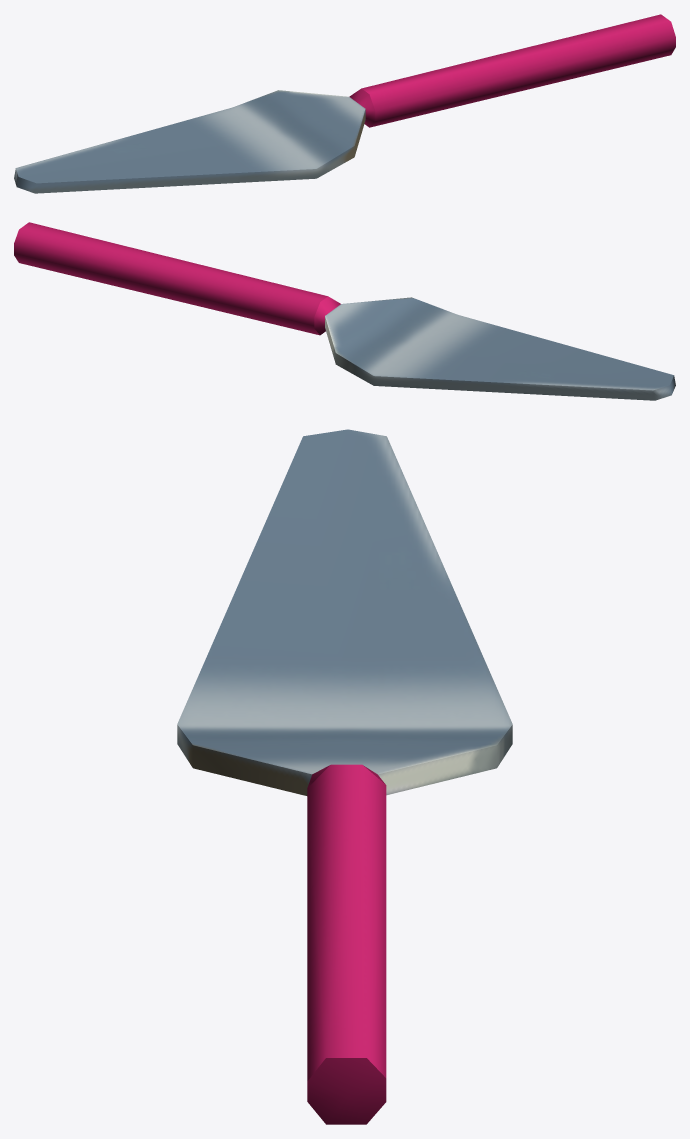
File: Cake_Server_04.fbx
3 renders of one model, top to bottom at view 1: azimuth 30°, elevation 25°; view 2: azimuth 150°, elevation 25°; view 3: azimuth 270°, elevation 25°, orthographic. The views are drawn at different scales.
Visible parts, largest first — view 1: Cake_Server_04; view 2: Cake_Server_04; view 3: Cake_Server_04.
Boxes of the visible parts, bbox=[...] form: Cake_Server_04: bbox=[14, 14, 675, 193]; Cake_Server_04: bbox=[14, 222, 675, 400]; Cake_Server_04: bbox=[177, 429, 512, 1124].
Size of the model in its own units: 114 by 5.64 by 25.22.
